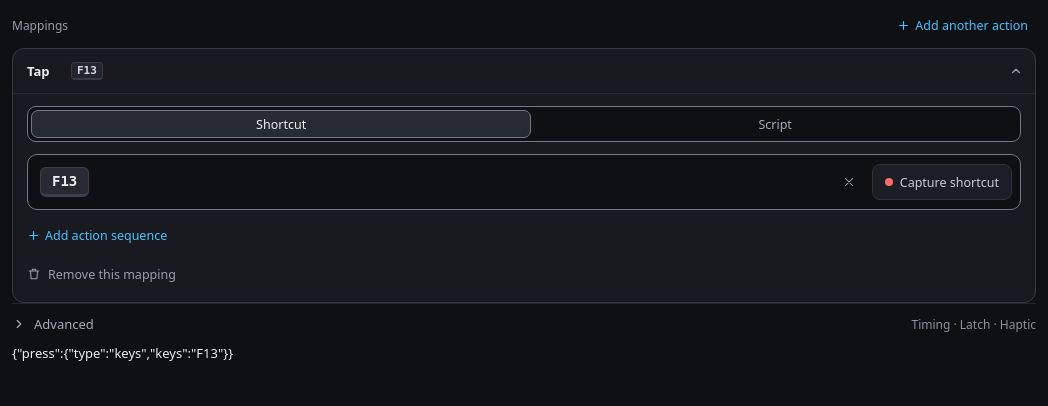
ends the capture with a real mouse click, which neither blur nor the click restarts
This screenshot has width=1048, height=406.
Click the button "Capture shortcut". click: (942, 182)
box: [872,164,1012,200]
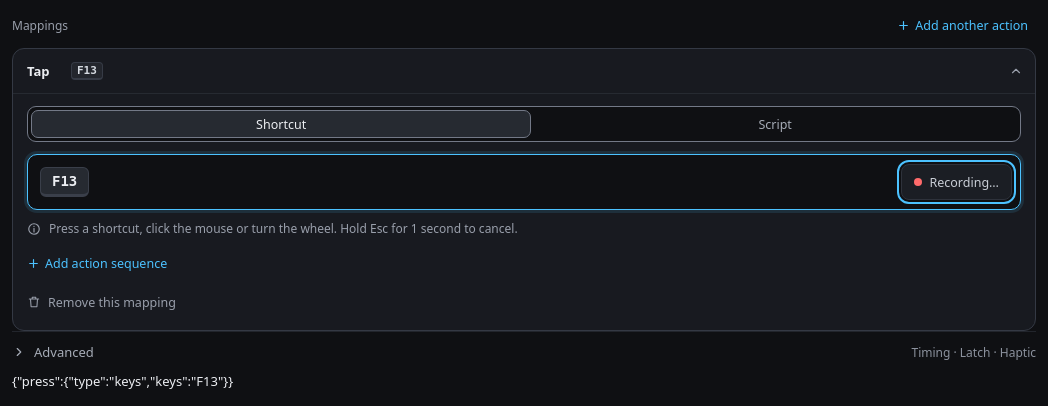
Note: The click is a key: the left button.
Click the button "Recording…". click: (957, 182)
box: [902,164,1012,200]
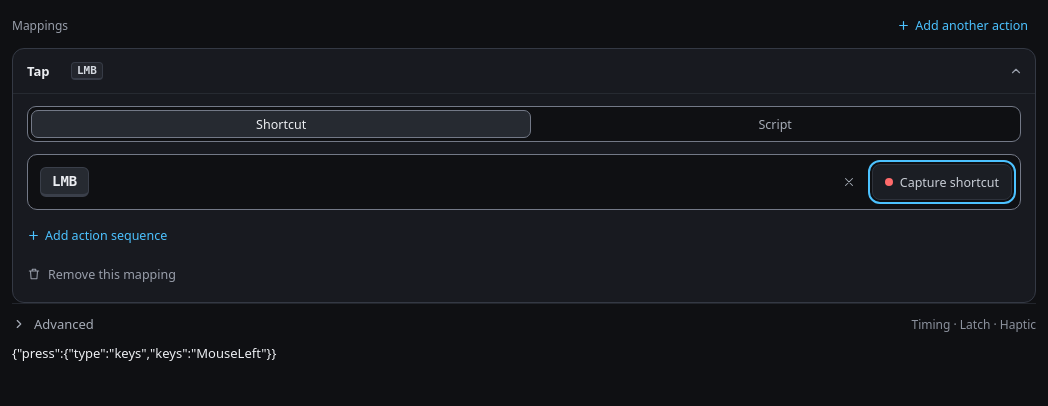
Expected: the button "Capture shortcut" is shown, [872,164,1012,200]
